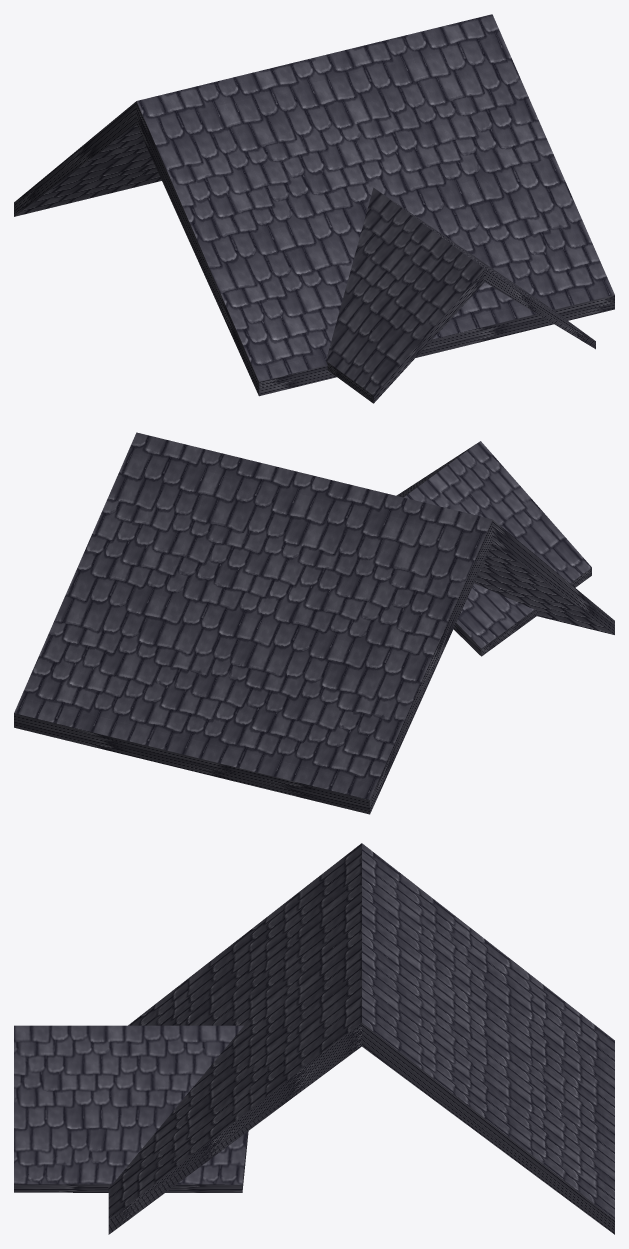
Rendered from roof.obj.
3 views of the same model, one above another, from view 1: azimuth 30°, elevation 25°; view 2: azimuth 150°, elevation 25°; view 3: azimuth 270°, elevation 25° (orthographic). The views are drawn at different scales.
Parts seen in each view (by area): view 1: roof_Cube.001; view 2: roof_Cube.001; view 3: roof_Cube.001.
Part boxes in pixels (x1,y1,x2,y2): roof_Cube.001: (14, 14, 614, 403); roof_Cube.001: (14, 432, 614, 814); roof_Cube.001: (14, 843, 614, 1234).
Bounding box in the file's own units: 28.11 × 15.51 × 39.77.
